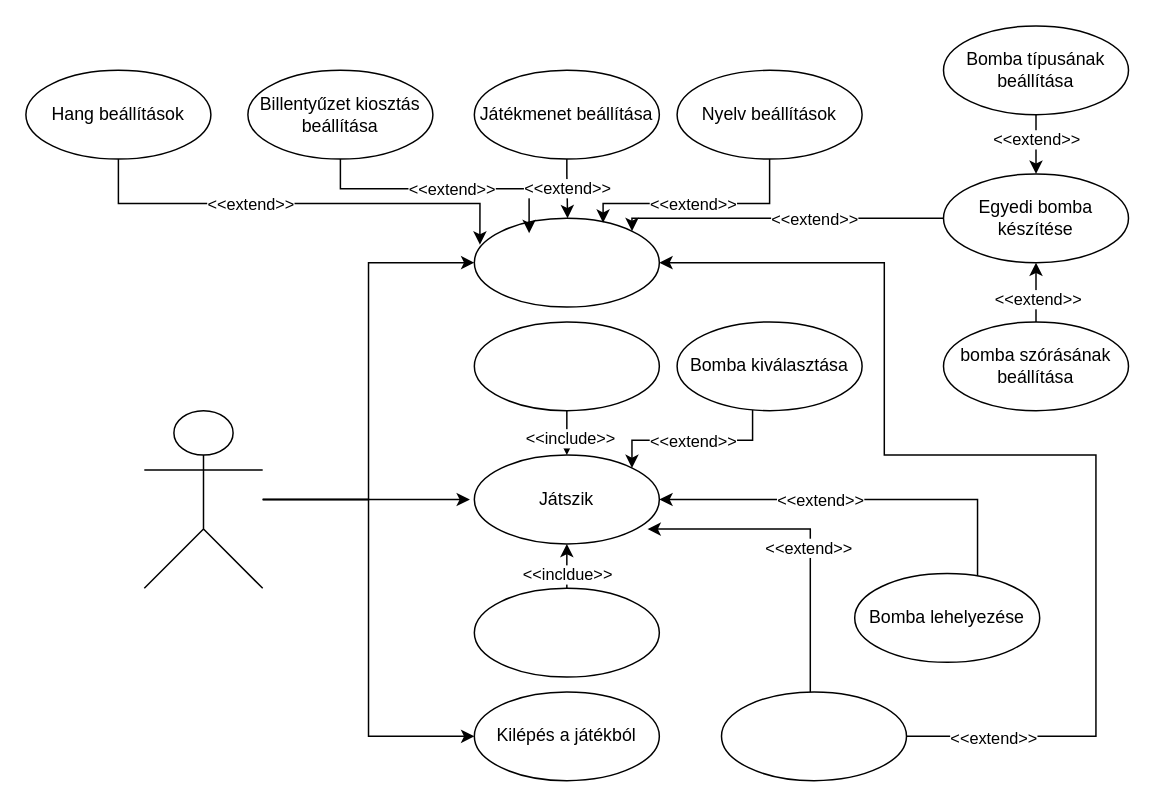
This 1154x807 diagram has some shape labels left out. Each missing label, with the centre of its shape:
Játék beállítások kezelése: pixel 566 262
Játék indítása: pixel 566 632
Játékos: pixel 203 498
Játékos meghívása: pixel 566 365
Kilépés a menübe: pixel 813 735
